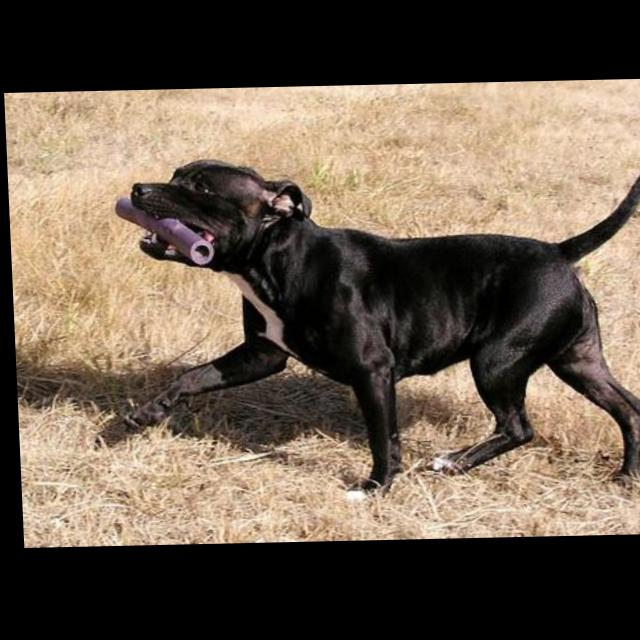staffford: (109, 142, 640, 507)
